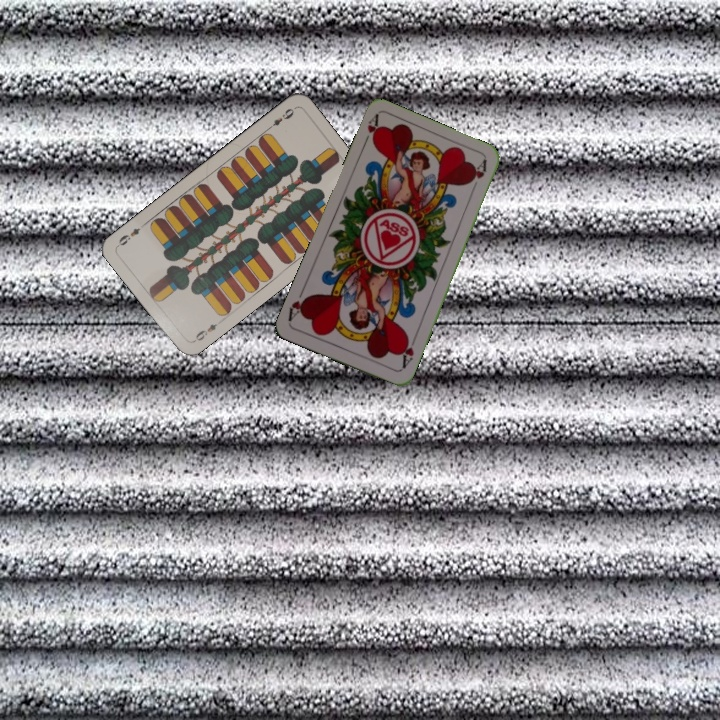E9: (189, 316, 224, 345), (263, 104, 297, 133)
HA: (358, 111, 383, 151), (397, 332, 419, 371)
